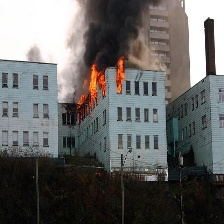fire: (73, 62, 106, 116), (113, 57, 125, 96)
smoke: (62, 1, 175, 77)
